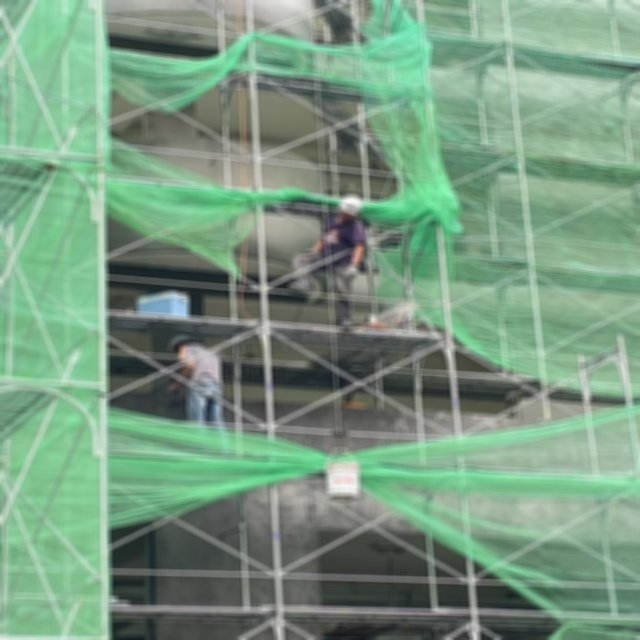Con_Casco: (338, 195, 363, 216)
